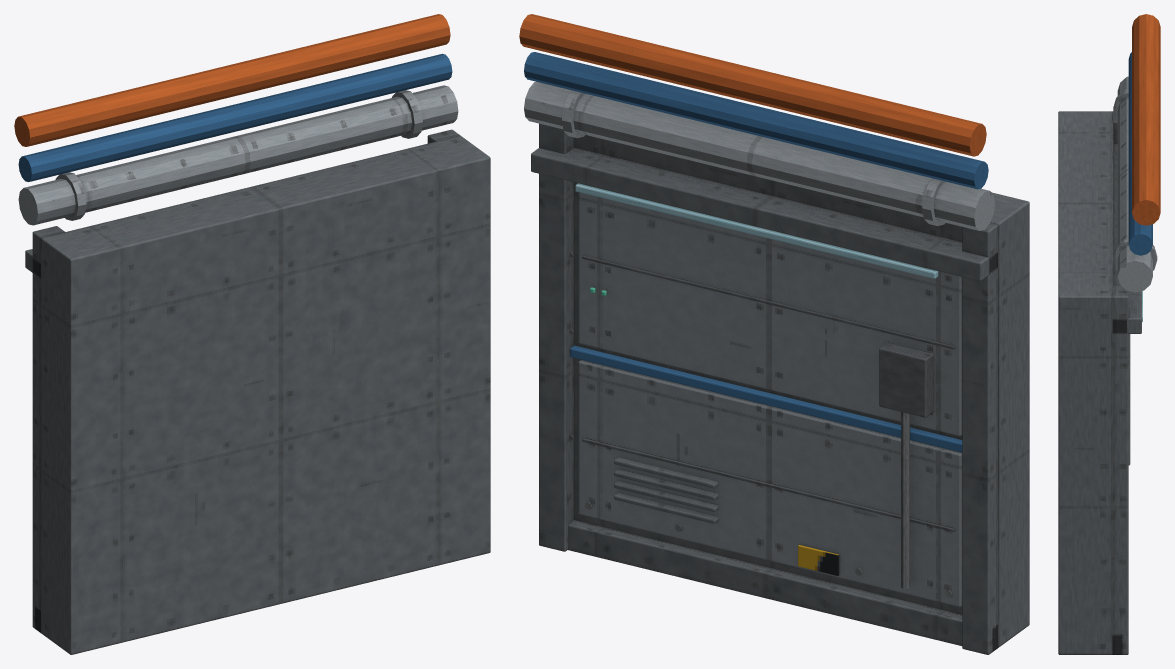
Rendered from base_wall_panel.glb.
3 views of the same model, side by side, from view 1: azimuth 30°, elevation 25°; view 2: azimuth 150°, elevation 25°; view 3: azimuth 270°, elevation 25° (orthographic). The views are drawn at different scales.
Parts seen in each view (by area): view 1: base_wall_panel; view 2: base_wall_panel; view 3: base_wall_panel.
Part boxes in pixels (x1,y1,x2,y2): base_wall_panel: (14,14,490,654); base_wall_panel: (519,14,1029,654); base_wall_panel: (1058,14,1160,654).
Bounding box in the file's own units: 4 × 4.57 × 0.93.
10 materials, 10 textured.
